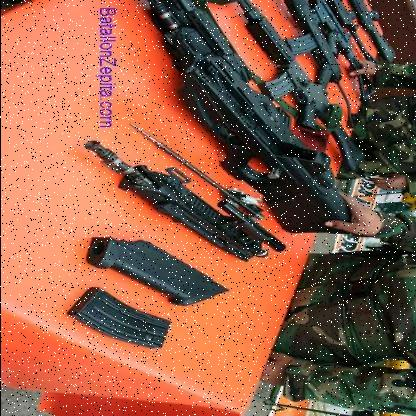rifle: (226, 0, 384, 180)
